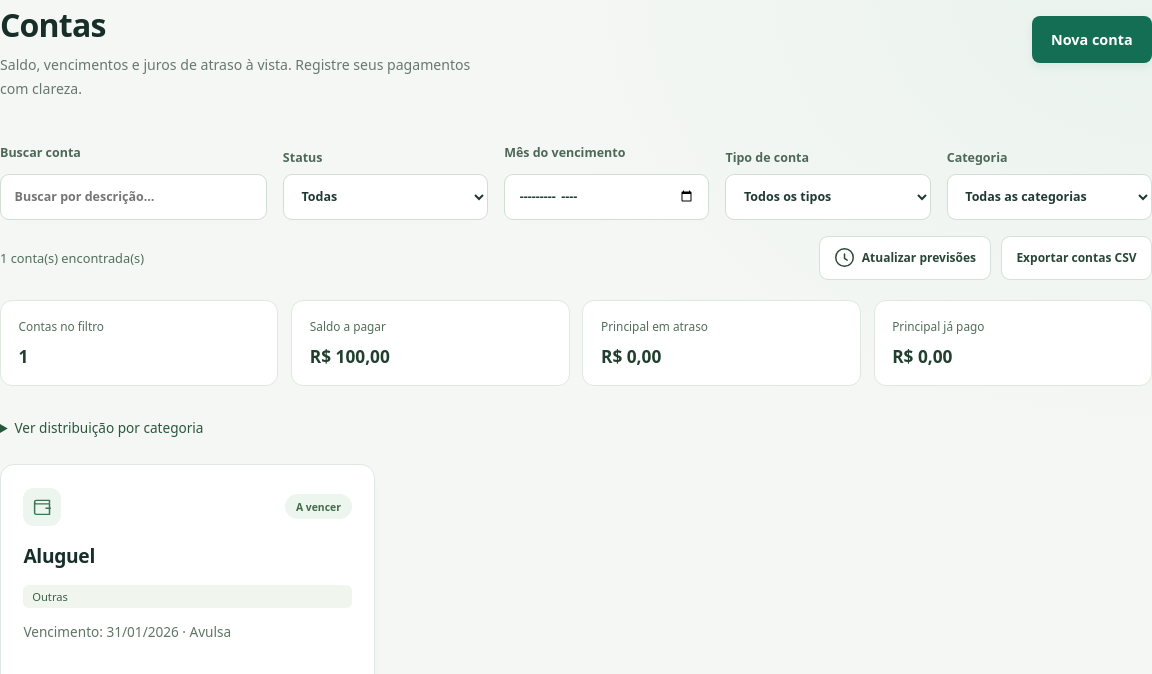
lista dados, aplica filtro e exige confirmação antes de excluir
Later steps or results of the test are not shown.
Select "Paga" in the dropdown labelled "Status" at {"x": 386, "y": 197}, box [283,174,488,220]
(page scrolled)
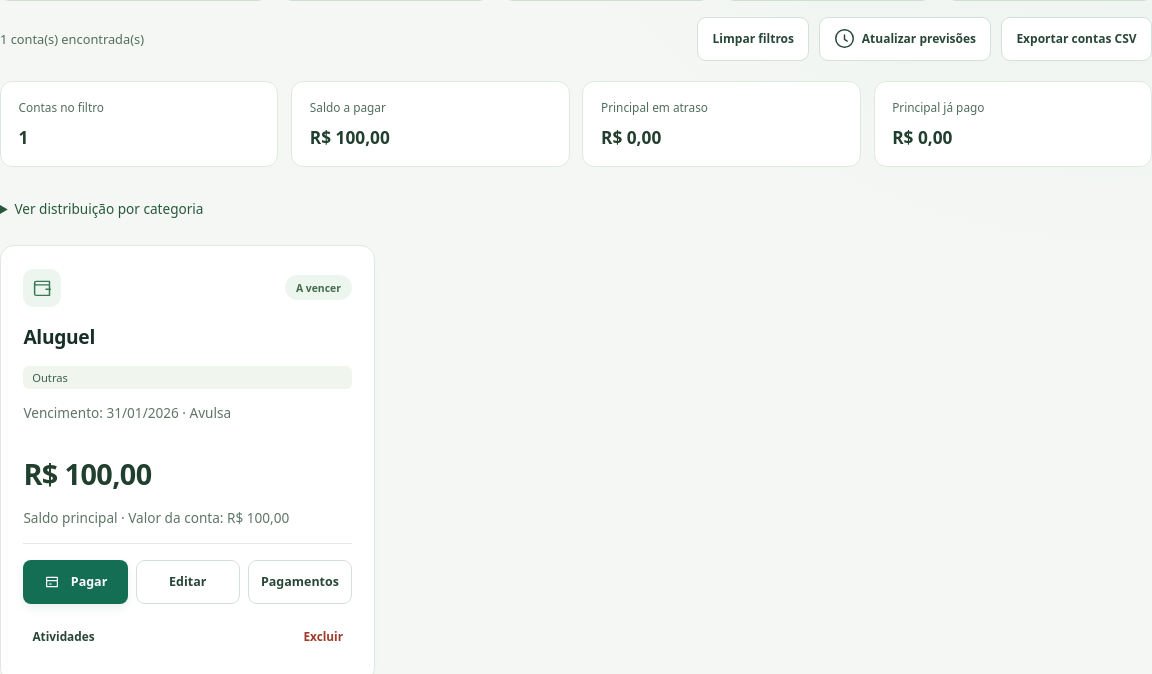
Click the button "Excluir".
click(323, 636)  # box [294,614,352,658]
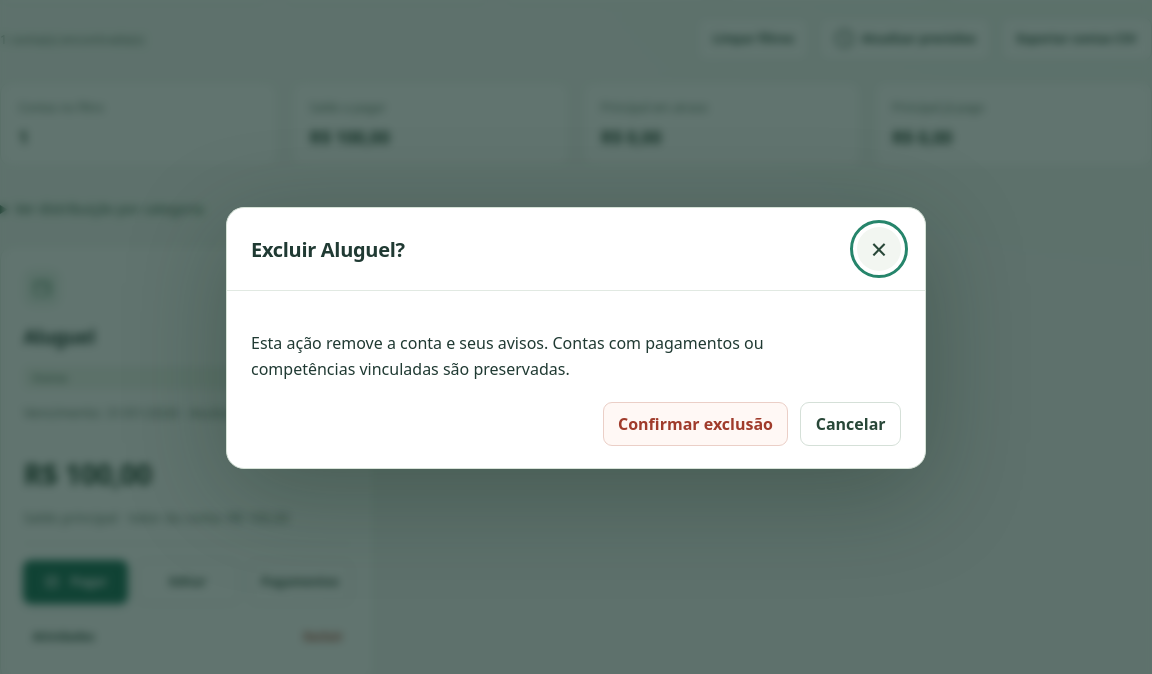
Expected: the button "Cancelar" is shown
Click the button "Cancelar".
click(851, 424)  # box [800,402,901,446]
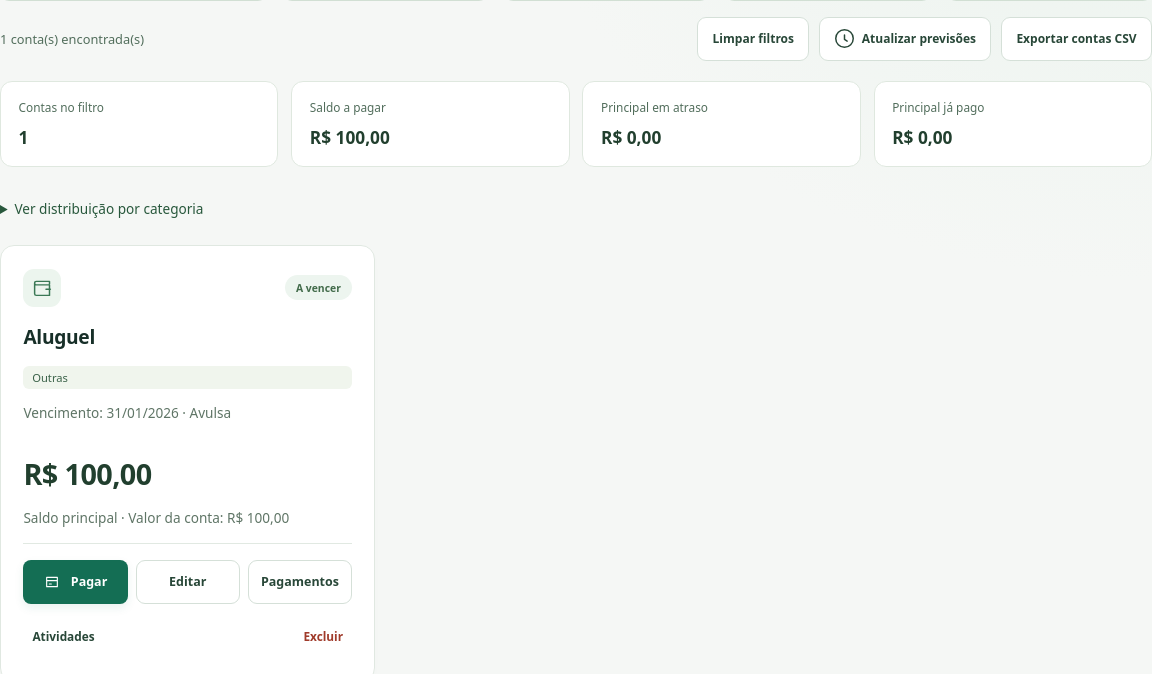
Expected: the dialog is gone
Click the button "Excluir".
click(323, 636)  # box [294,614,352,658]
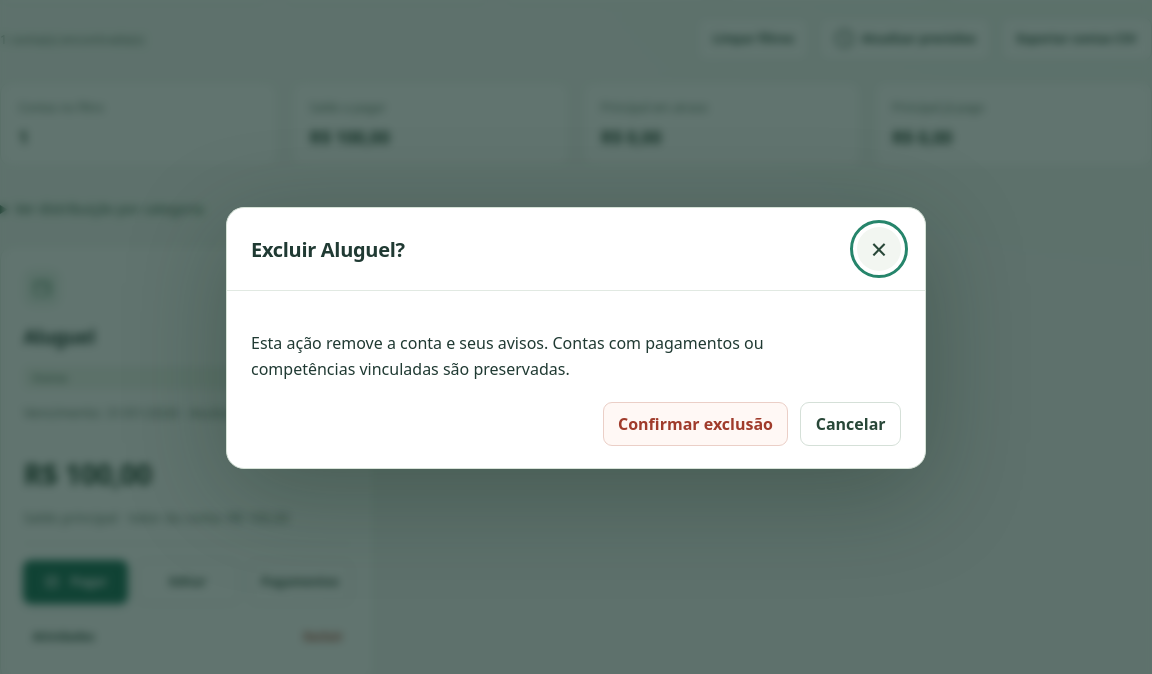
Expected: the button "Confirmar exclusão" is shown, [603,402,788,446]
